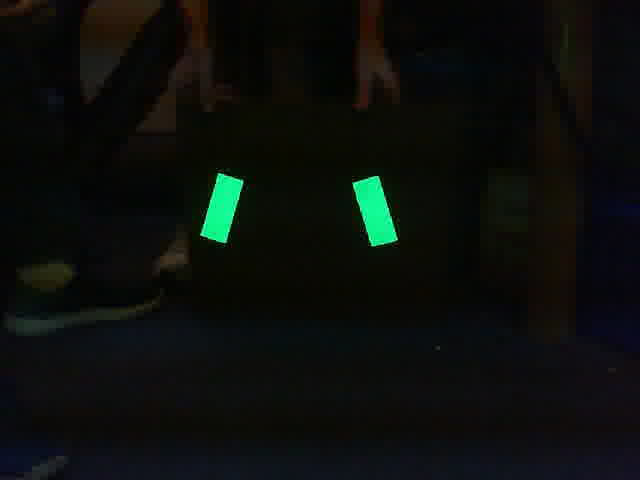target: (198, 172, 400, 248)
